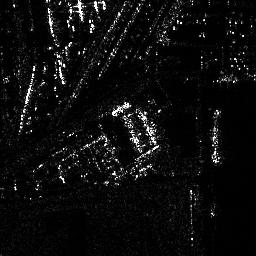ship: (211, 110, 222, 165)
